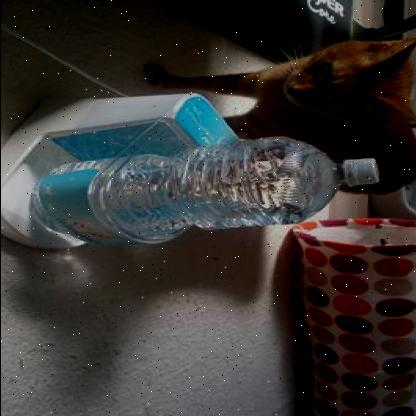Plastic Bottle: (35, 138, 378, 244)
